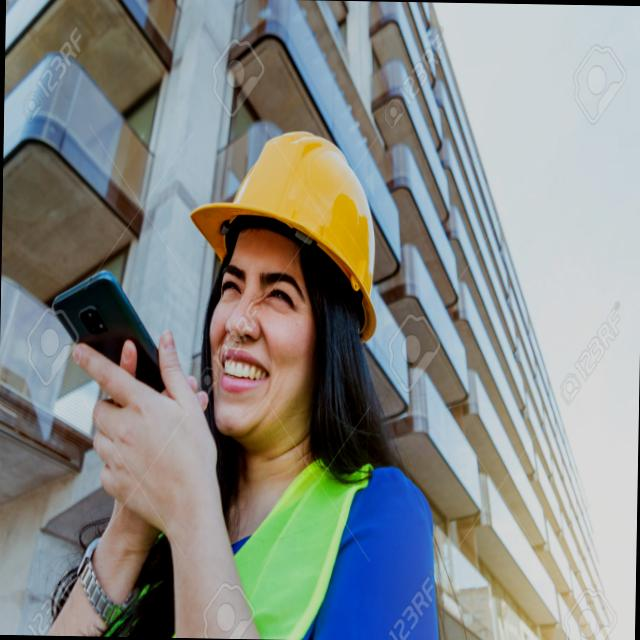helmet: (189, 120, 386, 321)
no-goggles: (199, 234, 340, 325)
vest: (218, 440, 380, 640)
